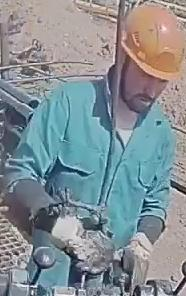gloves: (43, 211, 115, 276), (114, 230, 156, 271)
helmet: (120, 4, 185, 81)
vest: (3, 79, 177, 259)
